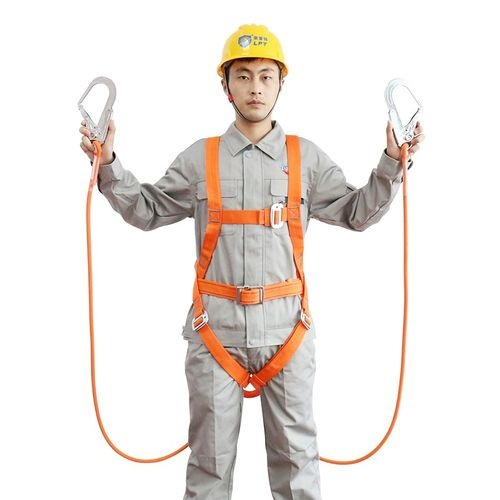safety belt: (182, 130, 337, 398)
